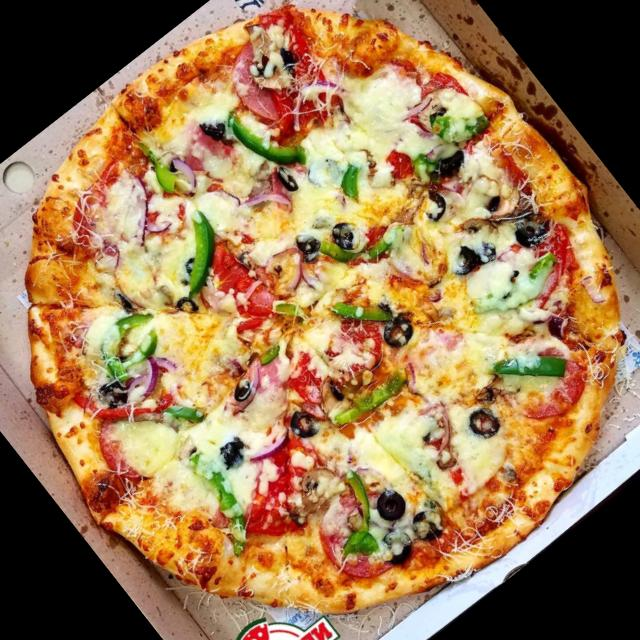black_olives: (373, 307, 426, 359), (406, 183, 456, 234), (376, 524, 424, 572), (407, 500, 454, 548), (367, 482, 414, 530), (255, 34, 302, 82), (508, 212, 554, 258), (283, 396, 329, 442), (286, 224, 330, 268), (440, 238, 484, 282), (212, 428, 255, 472), (462, 398, 504, 442), (92, 372, 134, 416), (193, 108, 235, 150), (326, 212, 367, 254), (541, 307, 580, 346), (167, 290, 205, 328)
peppers: (166, 443, 271, 560), (144, 203, 244, 304), (463, 245, 568, 337), (222, 97, 314, 194), (330, 352, 425, 440), (84, 295, 174, 383), (317, 202, 404, 288), (487, 325, 572, 408), (317, 467, 393, 548), (328, 276, 396, 344), (426, 89, 494, 154), (152, 378, 210, 438), (329, 157, 377, 206), (142, 150, 185, 196), (406, 144, 443, 182)
pizza: (24, 4, 630, 618)
